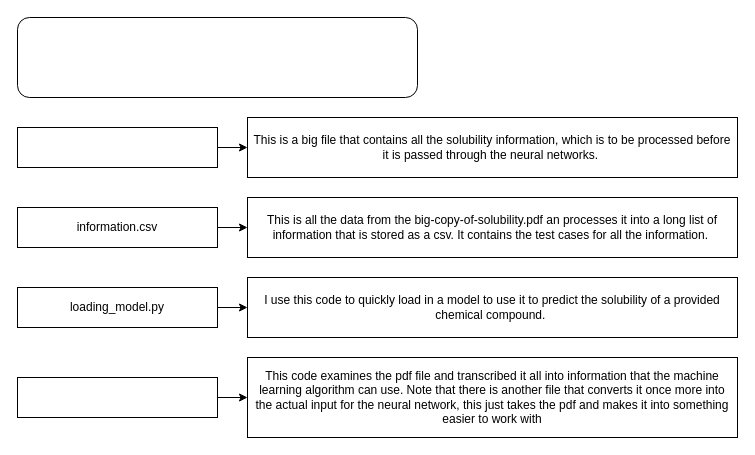
Some shapes in this 755 by 455 pixel diagram are drawn without their labels. The centre of each missing label's shape, as x and y in pixels:
"big-copy-of-solubility.pdf" goes at (x=117, y=147).
"read_machine.py" goes at (x=117, y=397).
"What Does Everything Do" goes at (x=217, y=57).
